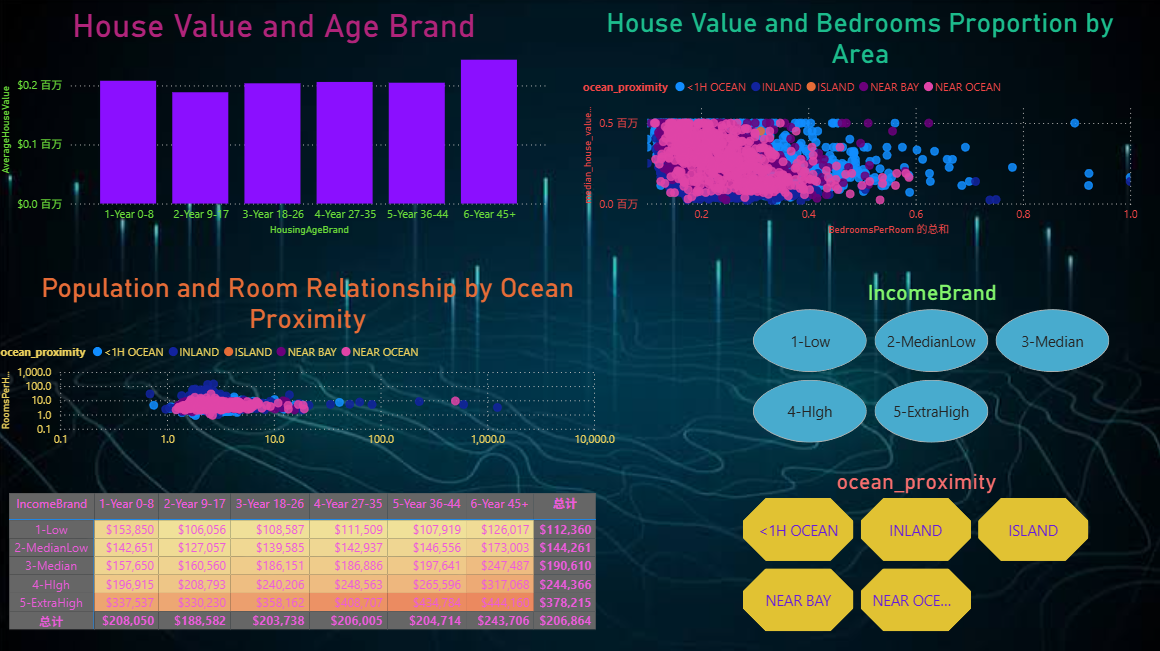

Layout of this report page (visuals, bound fields, positions):
{"tool":"powerbi","page":{"name":"House Value & Residental Structure","canvas":[1280,720],"ordinal":2},"visuals":[{"type":"clusteredColumnChart","title":"House Value and Age Brand","fields":{"Category":["DimAgeBand.HousingAgeBrand"],"Y":["FactHousing.AverageHouseValue"]},"box":[0,6.9,610.6,256.6],"z":0},{"type":"scatterChart","title":"Population and Room Relationship by Ocean Proximity","fields":{"X":["Sum(FactHousing.PopulationPerHousehold)"],"Y":["Sum(FactHousing.RoomsPerHousehold)"],"Category":["FactHousing.HousingID"],"Series":["FactHousing.ocean_proximity"]},"box":[0,297.8,684.7,203.1],"z":1000},{"type":"scatterChart","title":"House Value and Bedrooms Proportion by Area","fields":{"X":["Sum(FactHousing.BedroomsPerRoom)"],"Y":["Sum(FactHousing.median_house_value)"],"Category":["FactHousing.HousingID"],"Series":["FactHousing.ocean_proximity"]},"box":[639.5,6.9,618.9,256.6],"z":2000},{"type":"pivotTable","fields":{"Rows":["DimIncomeBand.IncomeBrand"],"Columns":["DimAgeBand.HousingAgeBrand"],"Values":["FactHousing.AverageHouseValue"]},"box":[9.6,536.5,684.7,183.9],"z":3000},{"type":"advancedSlicerVisual","fields":{"Values":["DimIncomeBand.IncomeBrand"]},"box":[826.1,307.4,403.4,183.9],"z":4000},{"type":"advancedSlicerVisual","fields":{"Values":["FactHousing.ocean_proximity"]},"box":[815.1,514.6,391.1,183.9],"z":5000}]}

Visuals, with their boxes in screenshot pixels (x1, y1, x2, y2), scaled from the page's 1280x720 canvas onto the 1160x651 screenshot:
"House Value and Age Brand" clusteredColumnChart: rect(0, 6, 553, 238)
"Population and Room Relationship by Ocean Proximity" scatterChart: rect(0, 269, 621, 453)
"House Value and Bedrooms Proportion by Area" scatterChart: rect(580, 6, 1140, 238)
pivotTable - DimIncomeBand.IncomeBrand x DimAgeBand.HousingAgeBrand: rect(9, 485, 629, 650)
advancedSlicerVisual - DimIncomeBand.IncomeBrand: rect(749, 278, 1114, 444)
advancedSlicerVisual - FactHousing.ocean_proximity: rect(739, 465, 1093, 632)
